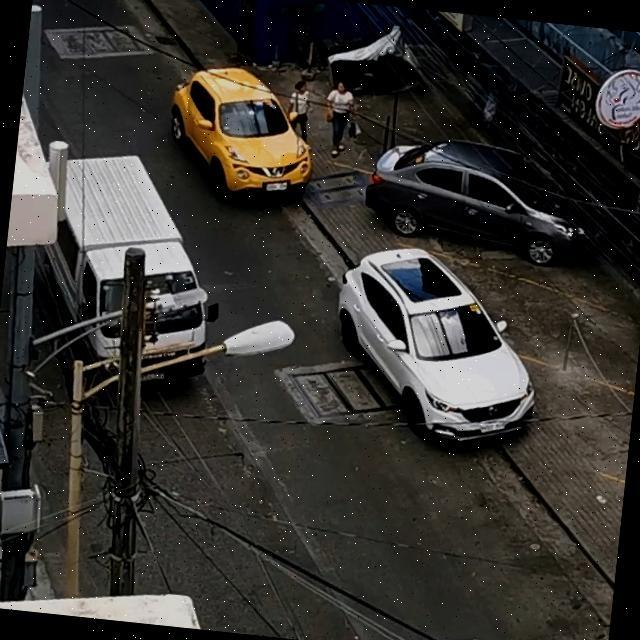Truck: (0, 132, 241, 406)
